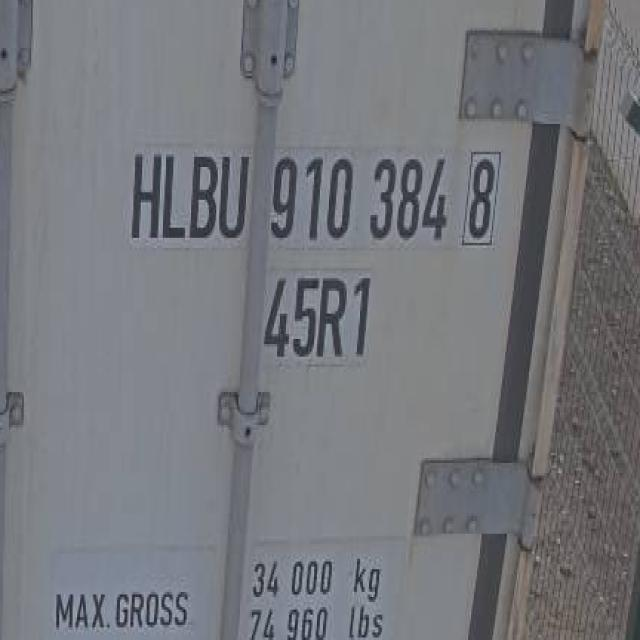dv: (456, 144, 514, 254)
owner: (124, 143, 255, 252)
serial: (270, 143, 450, 250)
size: (260, 270, 372, 364)
